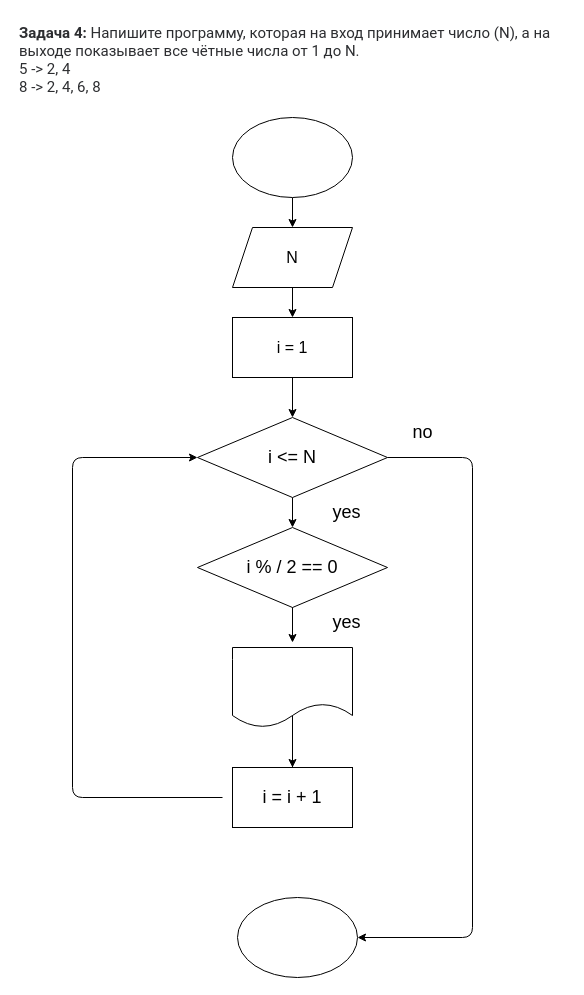
The diagram is 584 pixels wide and 995 high, and some of its shapes have lost their labels. The centre of each missing label's shape, as x and y in pixels:
"end" goes at point 297,937.
"start" goes at point 292,157.
"Вывод i" goes at point 292,687.
